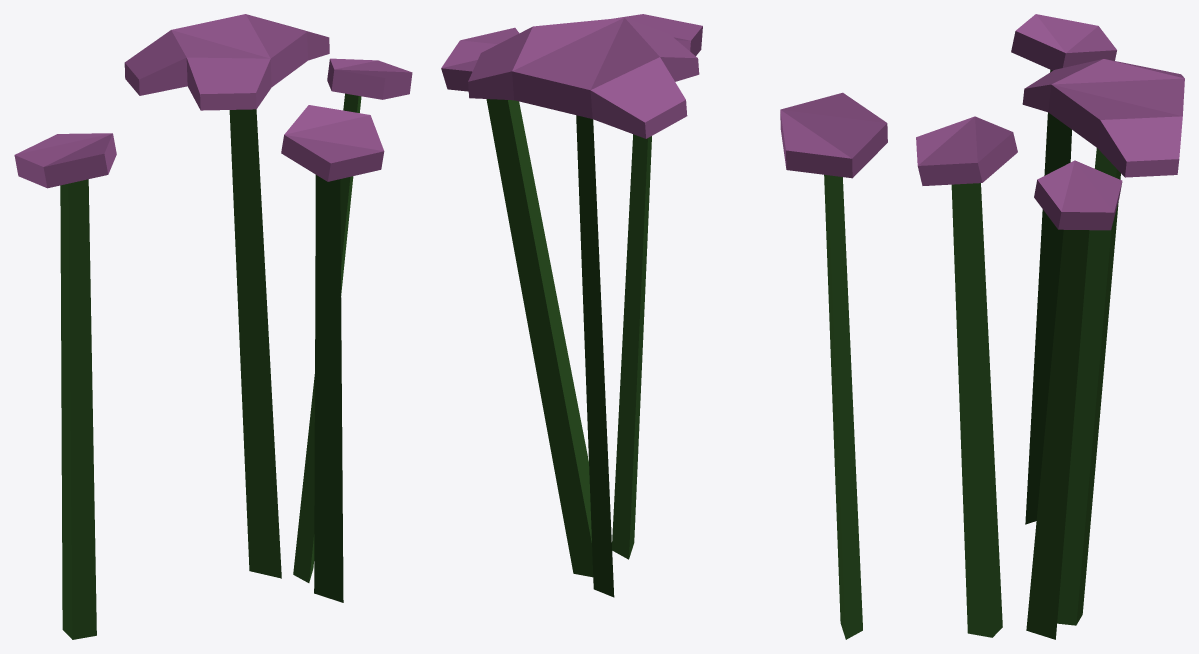
File: SM_Env_Flowers_03.fbx
3 renders of one model, left to right at view 1: azimuth 30°, elevation 25°; view 2: azimuth 150°, elevation 25°; view 3: azimuth 270°, elevation 25°, orthographic. The views are drawn at different scales.
Parts seen in each view (by area): view 1: SM_Env_Flowers_03; view 2: SM_Env_Flowers_03; view 3: SM_Env_Flowers_03.
Part boxes in pixels (box(x1,y1,x2,y2)): SM_Env_Flowers_03: box(14, 14, 412, 639); SM_Env_Flowers_03: box(441, 14, 887, 639); SM_Env_Flowers_03: box(916, 14, 1184, 639).
Size of the model in its own units: 0.5701 by 0.7455 by 0.3409.
Materials: 1 (1 with a texture image).
